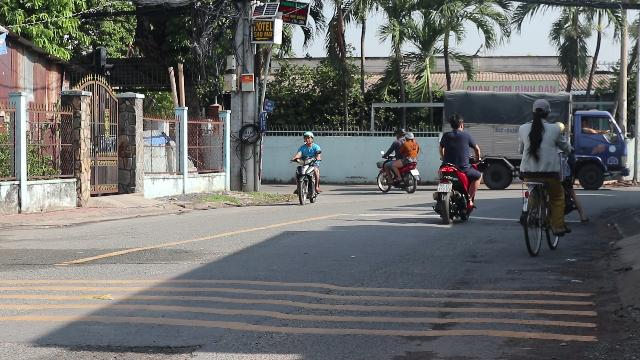licenseplate: (438, 184, 452, 192)
motorcyclist: (432, 112, 481, 222)
nohelmet: (446, 114, 464, 131)
